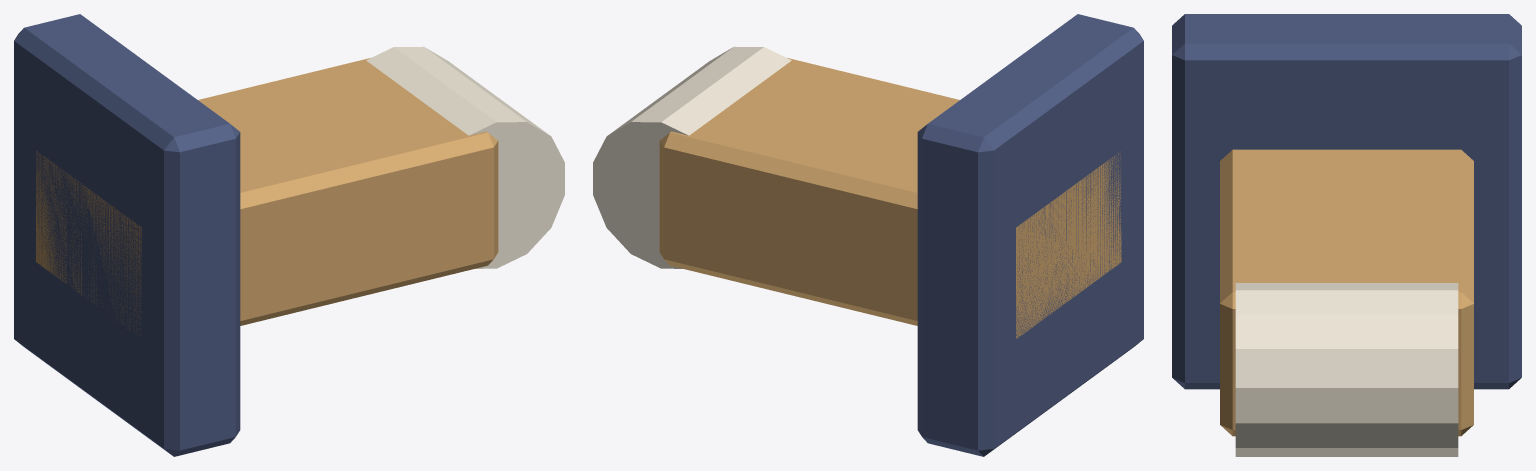
Rendered from orb4_gag_arm_right.glb.
3 renders of one model, left to right at view 1: azimuth 30°, elevation 25°; view 2: azimuth 150°, elevation 25°; view 3: azimuth 270°, elevation 25°, orthographic. The views are drawn at different scales.
Visible parts, largest first — view 1: orb4_gag_arm_right__orb3-indigo-glaze, orb4_gag_arm_right__orb3-brushed-brass, orb4_gag_arm_right__orb3-ivory-ceramic; view 2: orb4_gag_arm_right__orb3-indigo-glaze, orb4_gag_arm_right__orb3-brushed-brass, orb4_gag_arm_right__orb3-ivory-ceramic; view 3: orb4_gag_arm_right__orb3-indigo-glaze, orb4_gag_arm_right__orb3-ivory-ceramic, orb4_gag_arm_right__orb3-brushed-brass.
Boxes of the visible parts, left/top/right/bottom form: orb4_gag_arm_right__orb3-indigo-glaze: left=14, top=14, right=240, bottom=456; orb4_gag_arm_right__orb3-brushed-brass: left=36, top=58, right=498, bottom=334; orb4_gag_arm_right__orb3-ivory-ceramic: left=366, top=46, right=564, bottom=268; orb4_gag_arm_right__orb3-indigo-glaze: left=917, top=14, right=1143, bottom=456; orb4_gag_arm_right__orb3-brushed-brass: left=659, top=58, right=1121, bottom=338; orb4_gag_arm_right__orb3-ivory-ceramic: left=593, top=46, right=791, bottom=268; orb4_gag_arm_right__orb3-indigo-glaze: left=1172, top=14, right=1521, bottom=389; orb4_gag_arm_right__orb3-ivory-ceramic: left=1235, top=283, right=1458, bottom=456; orb4_gag_arm_right__orb3-brushed-brass: left=1220, top=149, right=1473, bottom=436.
Bounding box in the file's own units: 3.34 × 2.4 × 2.2.
